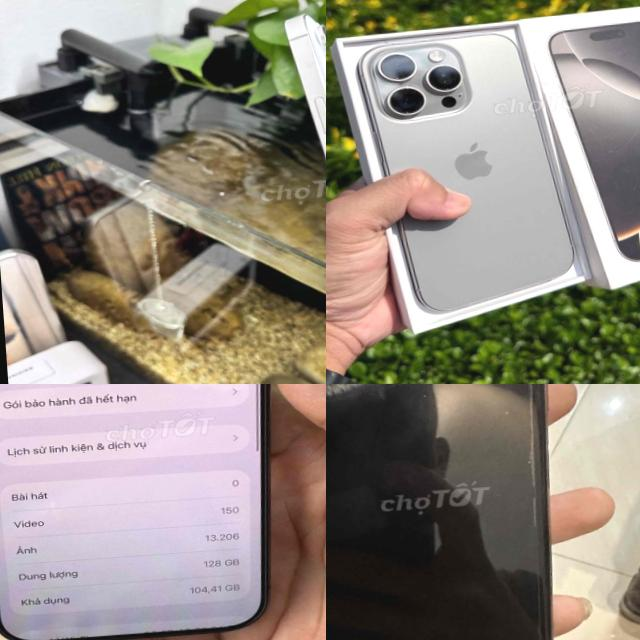gen_14: (276, 0, 326, 367)
gen_15: (0, 384, 326, 640)
gen_16: (352, 29, 573, 311)
gen_x_xs: (326, 384, 596, 640)
